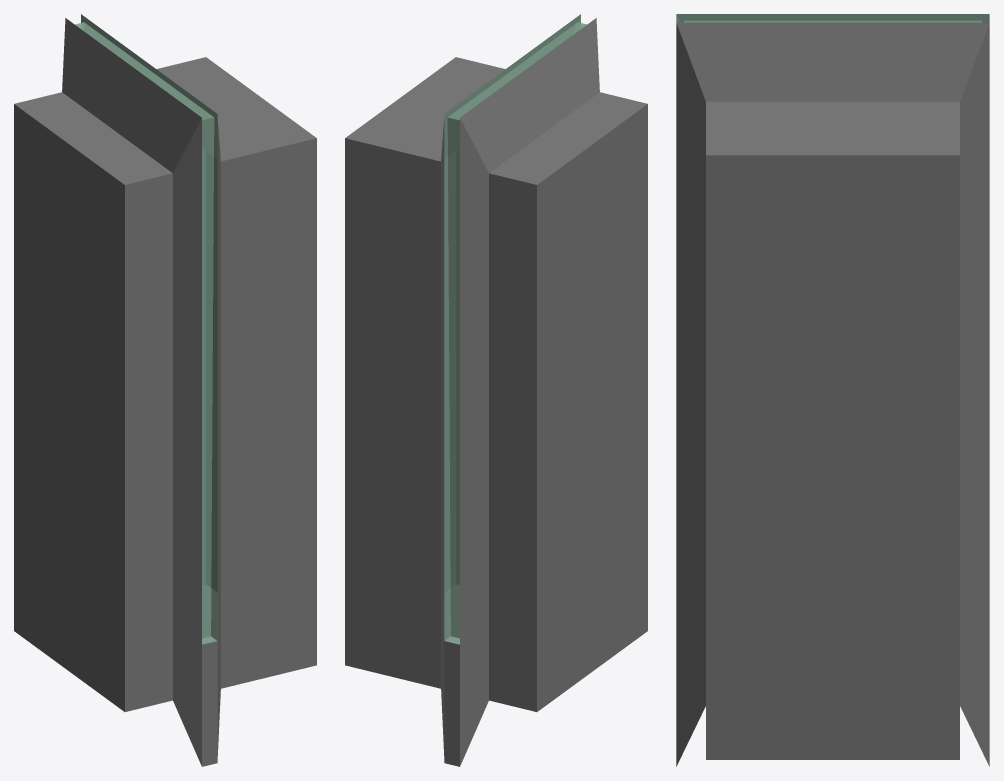
The model's file is Green Line Building.fbx.
3 views of the same model, side by side, from view 1: azimuth 30°, elevation 25°; view 2: azimuth 150°, elevation 25°; view 3: azimuth 270°, elevation 25° (orthographic). The views are drawn at different scales.
Parts seen in each view (by area): view 1: Green_Line_Building; view 2: Green_Line_Building; view 3: Green_Line_Building.
Boxes of the visible parts, box(x1,y1,x2,y2) form: Green_Line_Building: box(14, 14, 316, 766); Green_Line_Building: box(345, 14, 647, 766); Green_Line_Building: box(676, 14, 989, 766).
Size of the model in its own units: 27.17 by 87.76 by 33.46.
